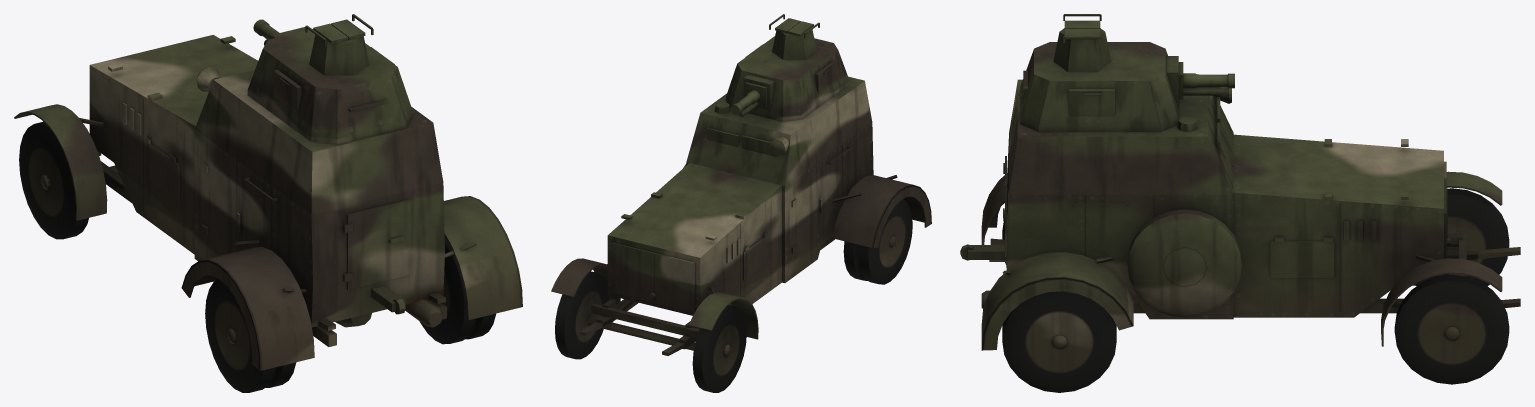
The picture shows the model from 3 angles, left to right: view 1: azimuth 30°, elevation 25°; view 2: azimuth 150°, elevation 25°; view 3: azimuth 270°, elevation 25°; orthographic projection. The views are drawn at different scales.
Parts seen in each view (by area): view 1: Chassis, Tourelle_01, Roue_02, Roue_Gauche_01; view 2: Chassis, Tourelle_01, Roue_Gauche_01, Roue_02, Roue_Droite_01, Axe_Canon_01, Canon_01; view 3: Chassis, Tourelle_01, Roue_Droite_01, Roue_02, Roue_Gauche_01, Axe_Canon_01, Canon_01.
Part boxes in pixels (x1=…): Chassis: x1=14, y1=35, x2=522, y2=370; Tourelle_01: x1=247, y1=14, x2=412, y2=144; Roue_02: x1=205, y1=235, x2=495, y2=392; Roue_Gauche_01: x1=19, y1=121, x2=88, y2=239; Chassis: x1=551, y1=76, x2=931, y2=355; Tourelle_01: x1=726, y1=14, x2=849, y2=121; Roue_Gauche_01: x1=692, y1=305, x2=746, y2=392; Roue_02: x1=843, y1=199, x2=912, y2=284; Roue_Droite_01: x1=555, y1=271, x2=608, y2=359; Axe_Canon_01: x1=738, y1=74, x2=774, y2=117; Canon_01: x1=730, y1=90, x2=760, y2=115; Chassis: x1=960, y1=79, x2=1520, y2=350; Tourelle_01: x1=1020, y1=14, x2=1179, y2=131; Roue_Droite_01: x1=1394, y1=274, x2=1509, y2=384; Roue_02: x1=1002, y1=221, x2=1116, y2=392; Roue_Gauche_01: x1=1416, y1=188, x2=1509, y2=286; Axe_Canon_01: x1=1166, y1=56, x2=1221, y2=105; Canon_01: x1=1183, y1=73, x2=1234, y2=88.
Size of the model in its own units: 191 by 367 by 226.
1 material, 1 textured.
